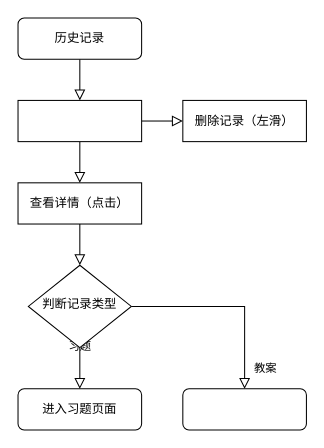
This 324x448 diagram has some shape labels left out. The shapes that lost their labels are listed below. From the top down, each one's centre as x and y in pixels, then its label:
At pixel 79 120: "获取所有已生成记录".
At pixel 244 409: "进入教案页面".
